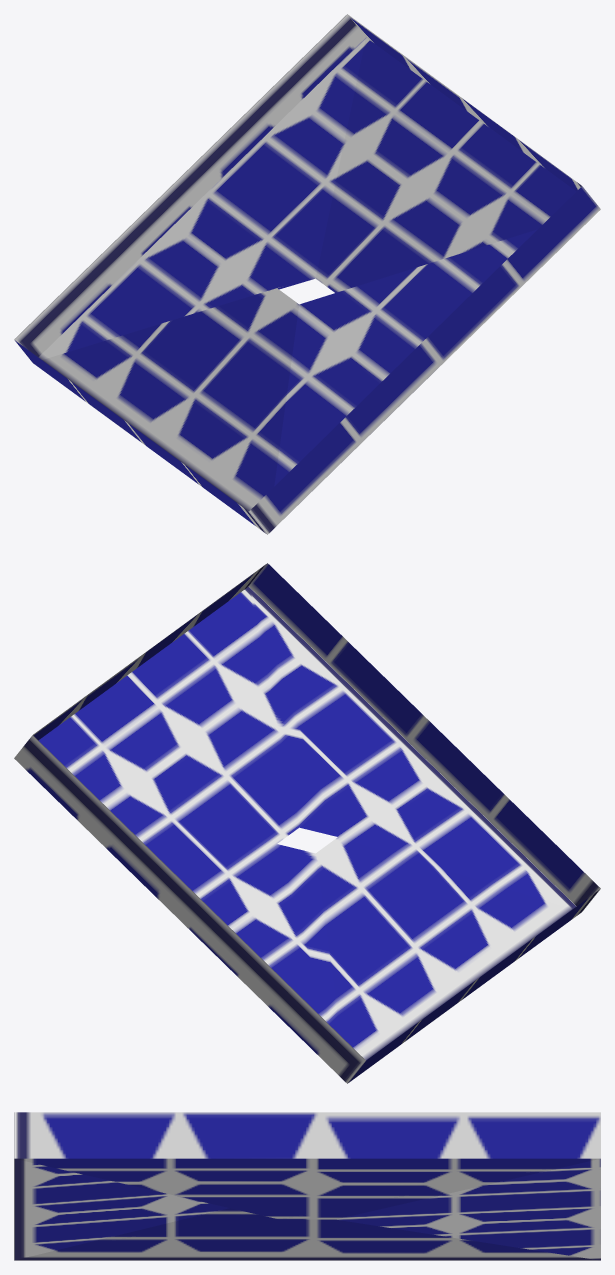
The model's file is SolarPanel.fbx.
3 views of the same model, one above another, from view 1: azimuth 30°, elevation 25°; view 2: azimuth 150°, elevation 25°; view 3: azimuth 270°, elevation 25° (orthographic). The views are drawn at different scales.
Visible parts, largest first — view 1: Panel; view 2: Panel; view 3: Panel.
Boxes of the visible parts, x1,y1,x2,y2 form: Panel: (14,14,600,534); Panel: (14,563,600,1083); Panel: (14,1112,600,1260).
Size of the model in its own units: 364 by 269 by 421.
